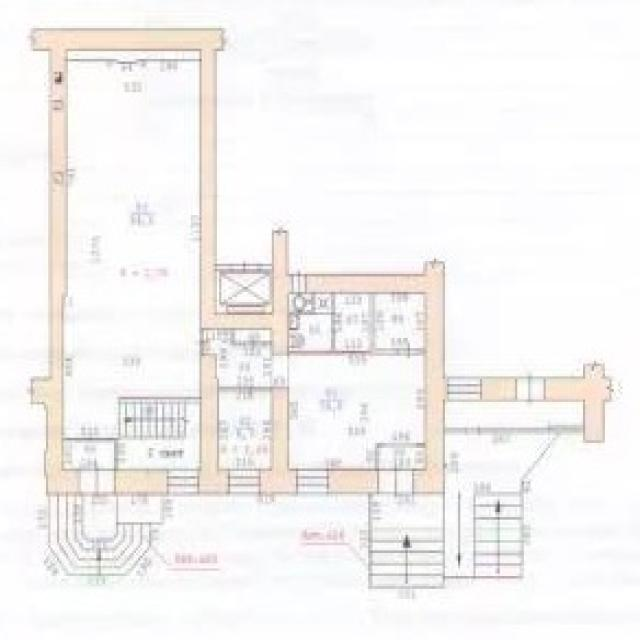Bathrooms: (290, 295, 331, 349)
Corridors: (64, 51, 200, 435), (445, 402, 584, 425), (218, 332, 270, 386), (64, 442, 113, 469), (381, 449, 424, 469)
Doors: (377, 453, 415, 502), (78, 457, 115, 498), (516, 376, 545, 402), (270, 358, 290, 388), (535, 419, 560, 441), (397, 339, 424, 359), (292, 267, 307, 298), (228, 258, 261, 272), (199, 331, 217, 354), (237, 386, 252, 393), (343, 351, 370, 354)
LBwalls: (27, 26, 293, 498), (305, 256, 449, 495), (545, 364, 613, 444), (198, 353, 229, 497), (259, 386, 297, 497), (115, 469, 167, 497), (328, 469, 379, 495), (482, 376, 516, 402)
Offices: (289, 355, 424, 469), (219, 393, 270, 468), (376, 295, 423, 348), (336, 295, 368, 350)
Stairs: (367, 436, 568, 589), (42, 497, 175, 577), (117, 395, 200, 467)
Walls: (289, 295, 343, 357), (62, 436, 119, 470), (368, 295, 398, 356), (374, 442, 426, 470), (445, 427, 535, 435), (560, 426, 583, 435), (215, 264, 230, 272), (220, 386, 237, 393), (252, 387, 270, 392), (261, 264, 273, 271)
Windows: (229, 468, 260, 496), (448, 376, 482, 401), (167, 468, 198, 495), (297, 468, 328, 495)
